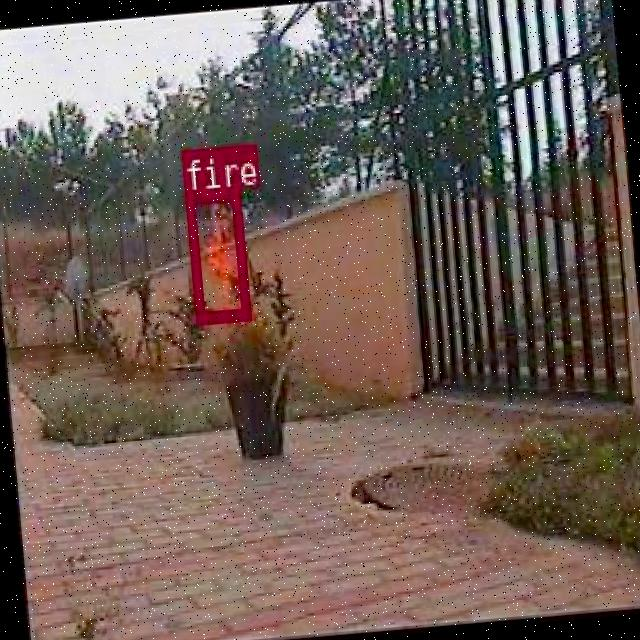fire: (184, 186, 249, 322)
